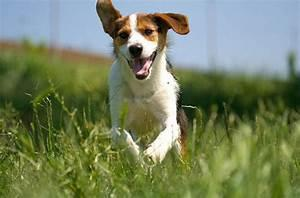dog: (95, 0, 191, 170)
